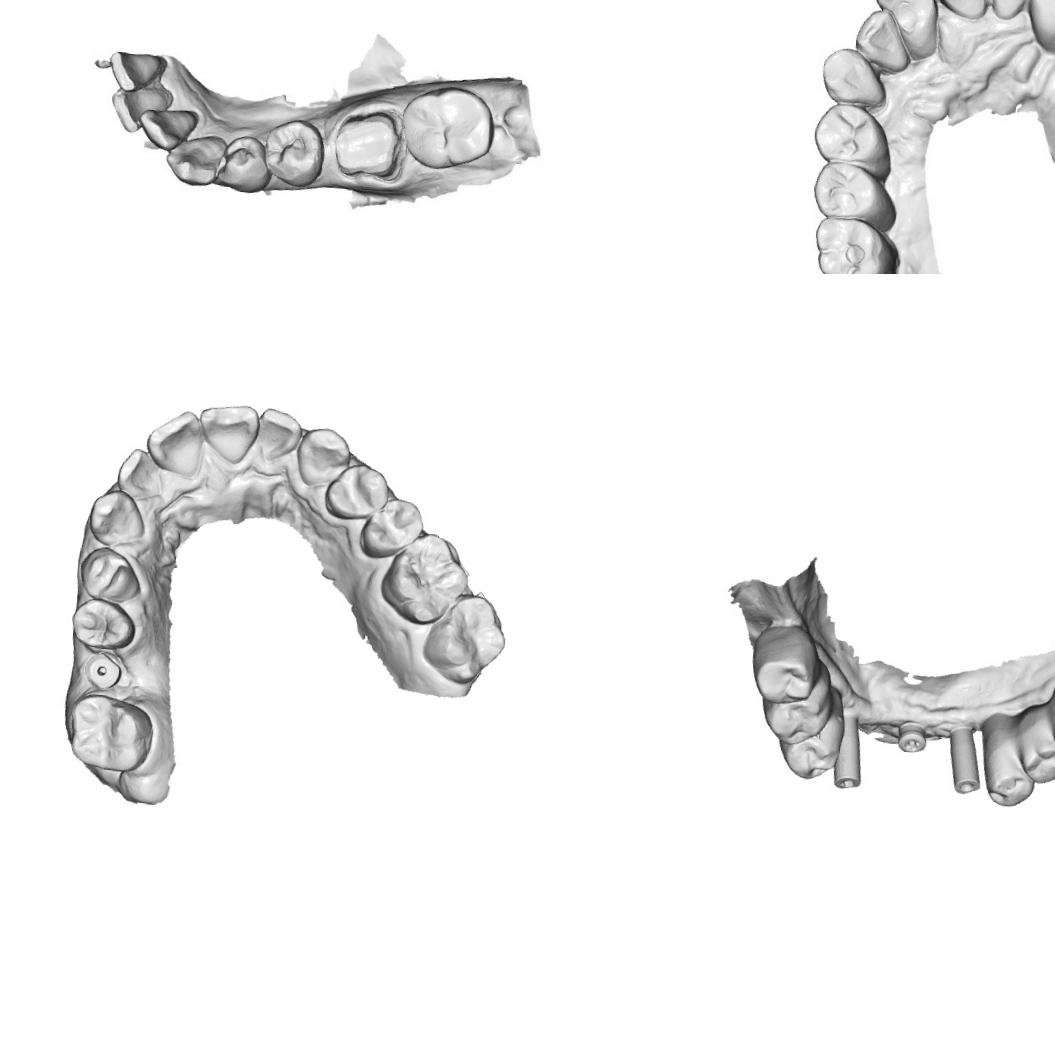canine: (816, 43, 890, 110), (158, 127, 232, 191), (291, 422, 353, 492), (84, 486, 149, 549), (1024, 0, 1055, 44)
crown: (332, 109, 401, 182)
implant: (944, 720, 987, 799), (830, 709, 868, 795), (78, 649, 124, 690)
implant_plus: (889, 714, 931, 761)
incisor: (139, 405, 208, 476), (192, 396, 259, 468), (850, 6, 915, 75), (108, 47, 173, 94), (112, 444, 167, 498), (250, 405, 302, 462), (109, 82, 168, 132), (870, 0, 943, 37), (142, 106, 196, 148), (921, 0, 991, 19), (981, 0, 1037, 21)
molar: (418, 587, 509, 692), (377, 528, 469, 628), (397, 80, 494, 173), (60, 691, 154, 774), (748, 626, 824, 708), (807, 210, 893, 274)
premolar: (808, 100, 895, 174), (807, 156, 890, 226), (355, 491, 429, 560), (72, 544, 144, 608), (321, 460, 393, 522), (766, 689, 830, 748), (71, 596, 138, 652), (264, 122, 320, 184), (986, 754, 1040, 811), (784, 728, 838, 783), (216, 135, 266, 192), (1023, 726, 1055, 781)
